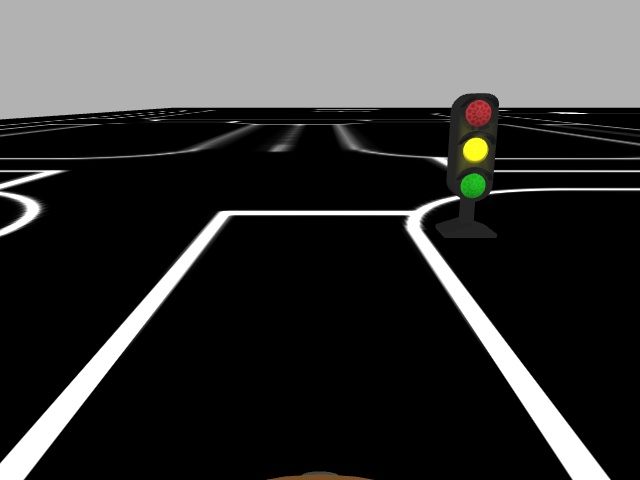yellow_light: (450, 95, 504, 201)
